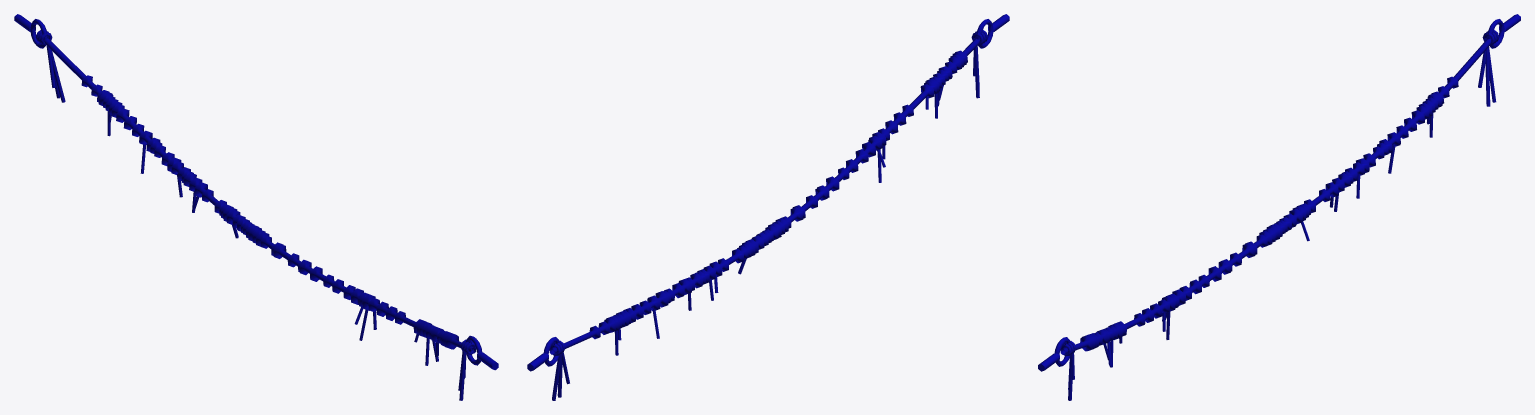
The model's file is divers_cord.glb.
3 renders of one model, left to right at view 1: azimuth 30°, elevation 25°; view 2: azimuth 150°, elevation 25°; view 3: azimuth 330°, elevation 25°, orthographic.
Visible parts, largest first — view 1: divers_cord; view 2: divers_cord; view 3: divers_cord.
Part boxes in pixels (box(x1,y1,x2,y2)): divers_cord: box(14, 14, 498, 400); divers_cord: box(527, 14, 1009, 400); divers_cord: box(1038, 14, 1520, 400).
Size of what is drawn, in the model's own units: 0.0664 by 0.2515 by 2.64.
